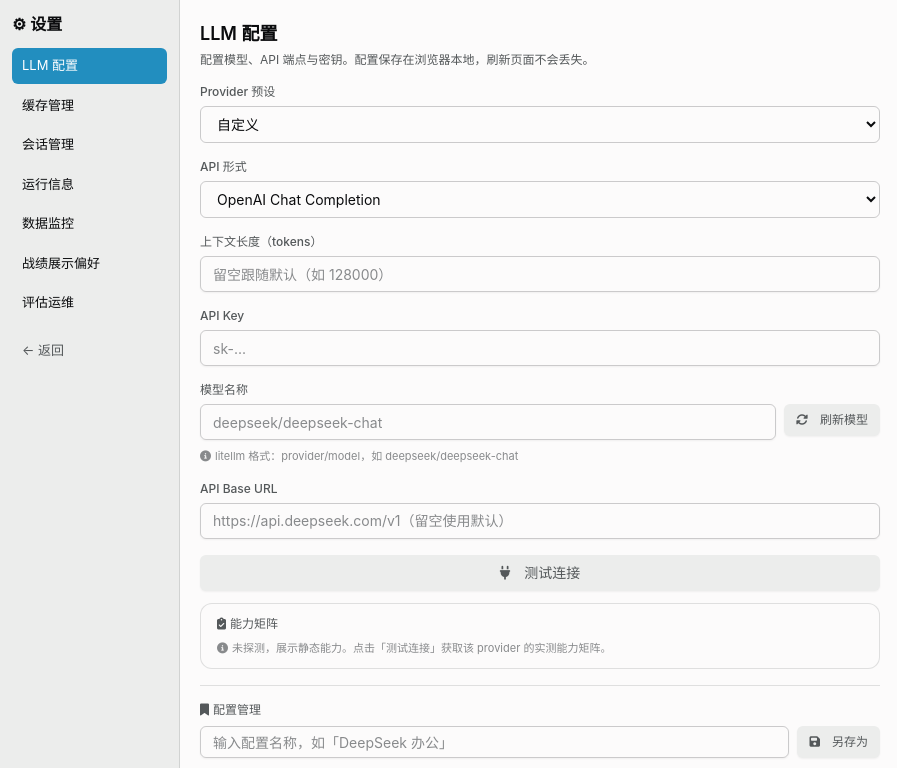
SettingsCenterPage › 点击左侧导航切换右侧内容区
断言聚焦内容区：点击导航后右侧渲染 cache-pane（而非重复匹配导航按钮本身）
Click the button with test id "settings-nav-cache" at (90, 105), box [12, 88, 167, 123]
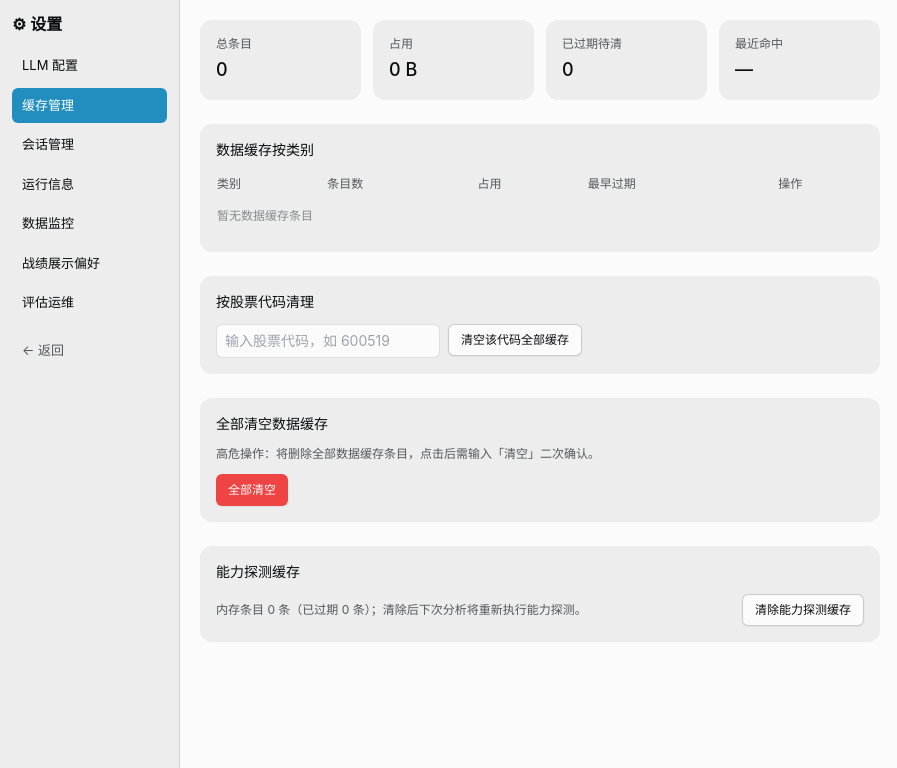
Check: the element with test id "cache-pane" is shown
